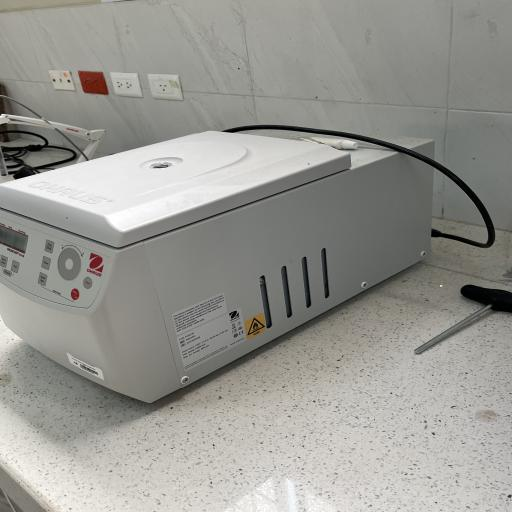Centrifuga_Ohaus_Frontier: (0, 124, 458, 408)
